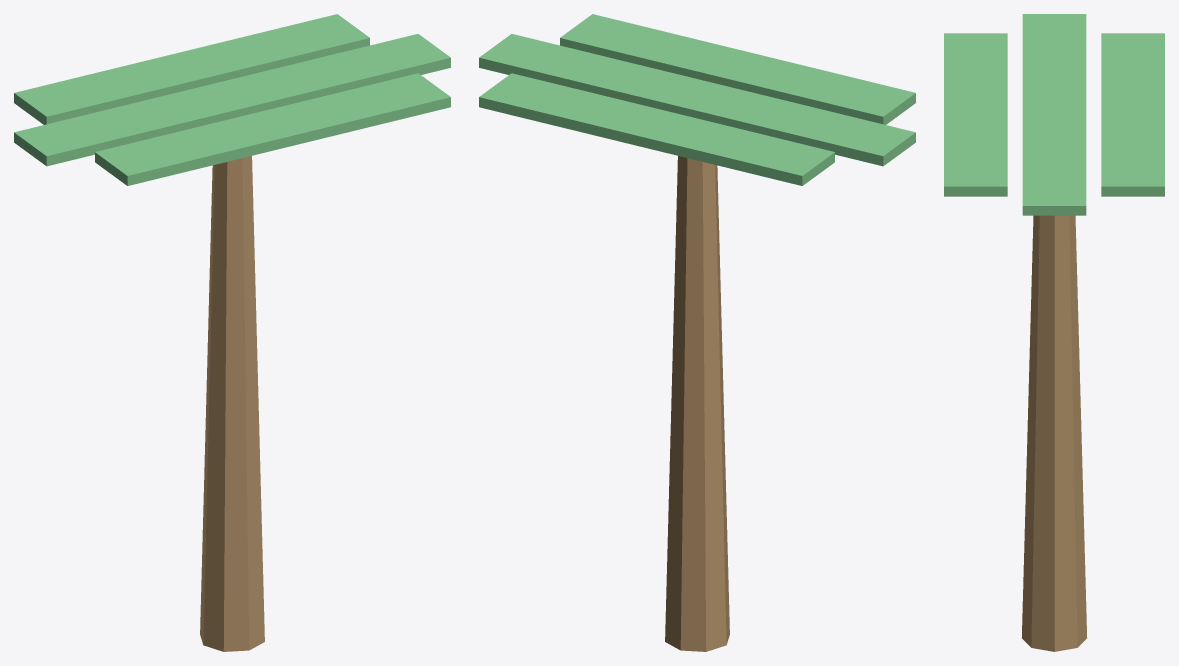
Rendered from pohon_palem.glb.
3 renders of one model, left to right at view 1: azimuth 30°, elevation 25°; view 2: azimuth 150°, elevation 25°; view 3: azimuth 270°, elevation 25°, orthographic. The views are drawn at different scales.
Bounding box in the file's own units: 2.5 × 3.21 × 1.22.
